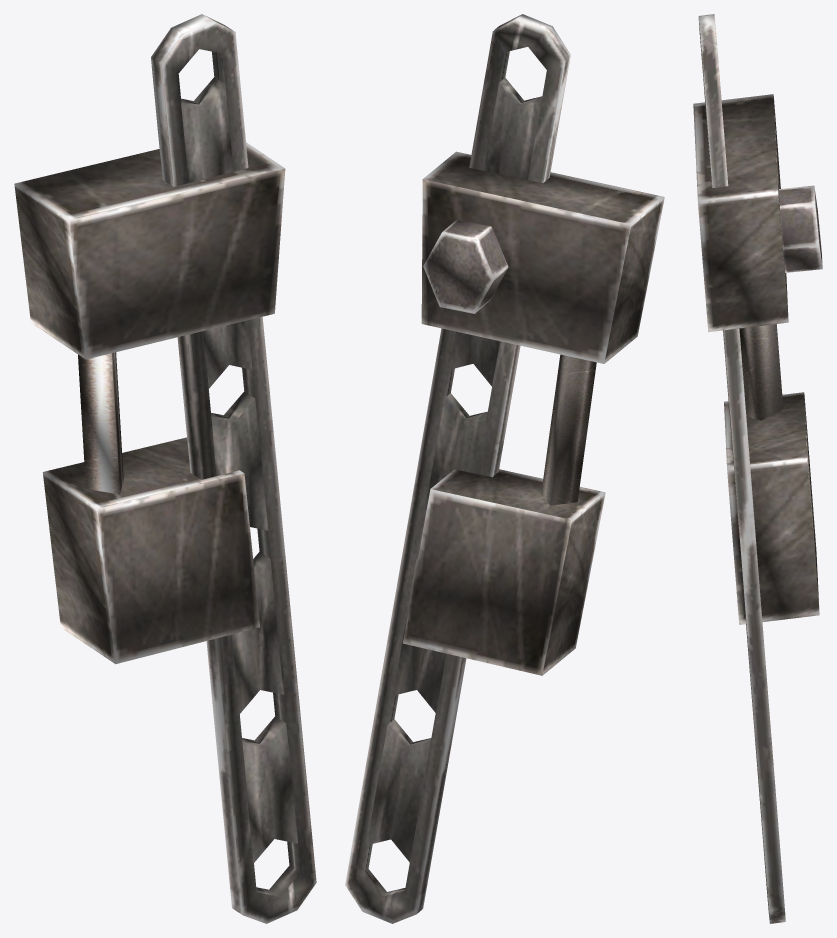
The model's file is Robot01.LeftHip4.fbx.
The picture shows the model from 3 angles, left to right: view 1: azimuth 30°, elevation 25°; view 2: azimuth 150°, elevation 25°; view 3: azimuth 270°, elevation 25°; orthographic projection. The views are drawn at different scales.
Visible parts, largest first — view 1: mesh_1210; view 2: mesh_1210; view 3: mesh_1210.
Boxes of the visible parts, bbox=[...] form: mesh_1210: bbox=[14, 14, 316, 923]; mesh_1210: bbox=[345, 14, 664, 923]; mesh_1210: bbox=[693, 14, 822, 923].
Bounding box in the file's own units: 34.85 × 106 × 14.61.
